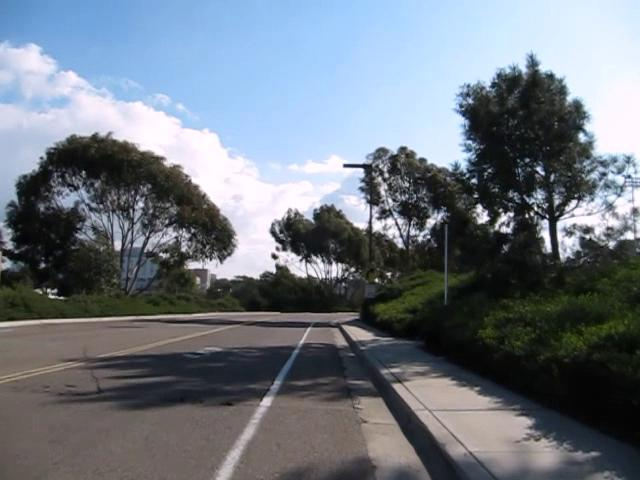speedLimit35: (363, 283, 377, 299)
